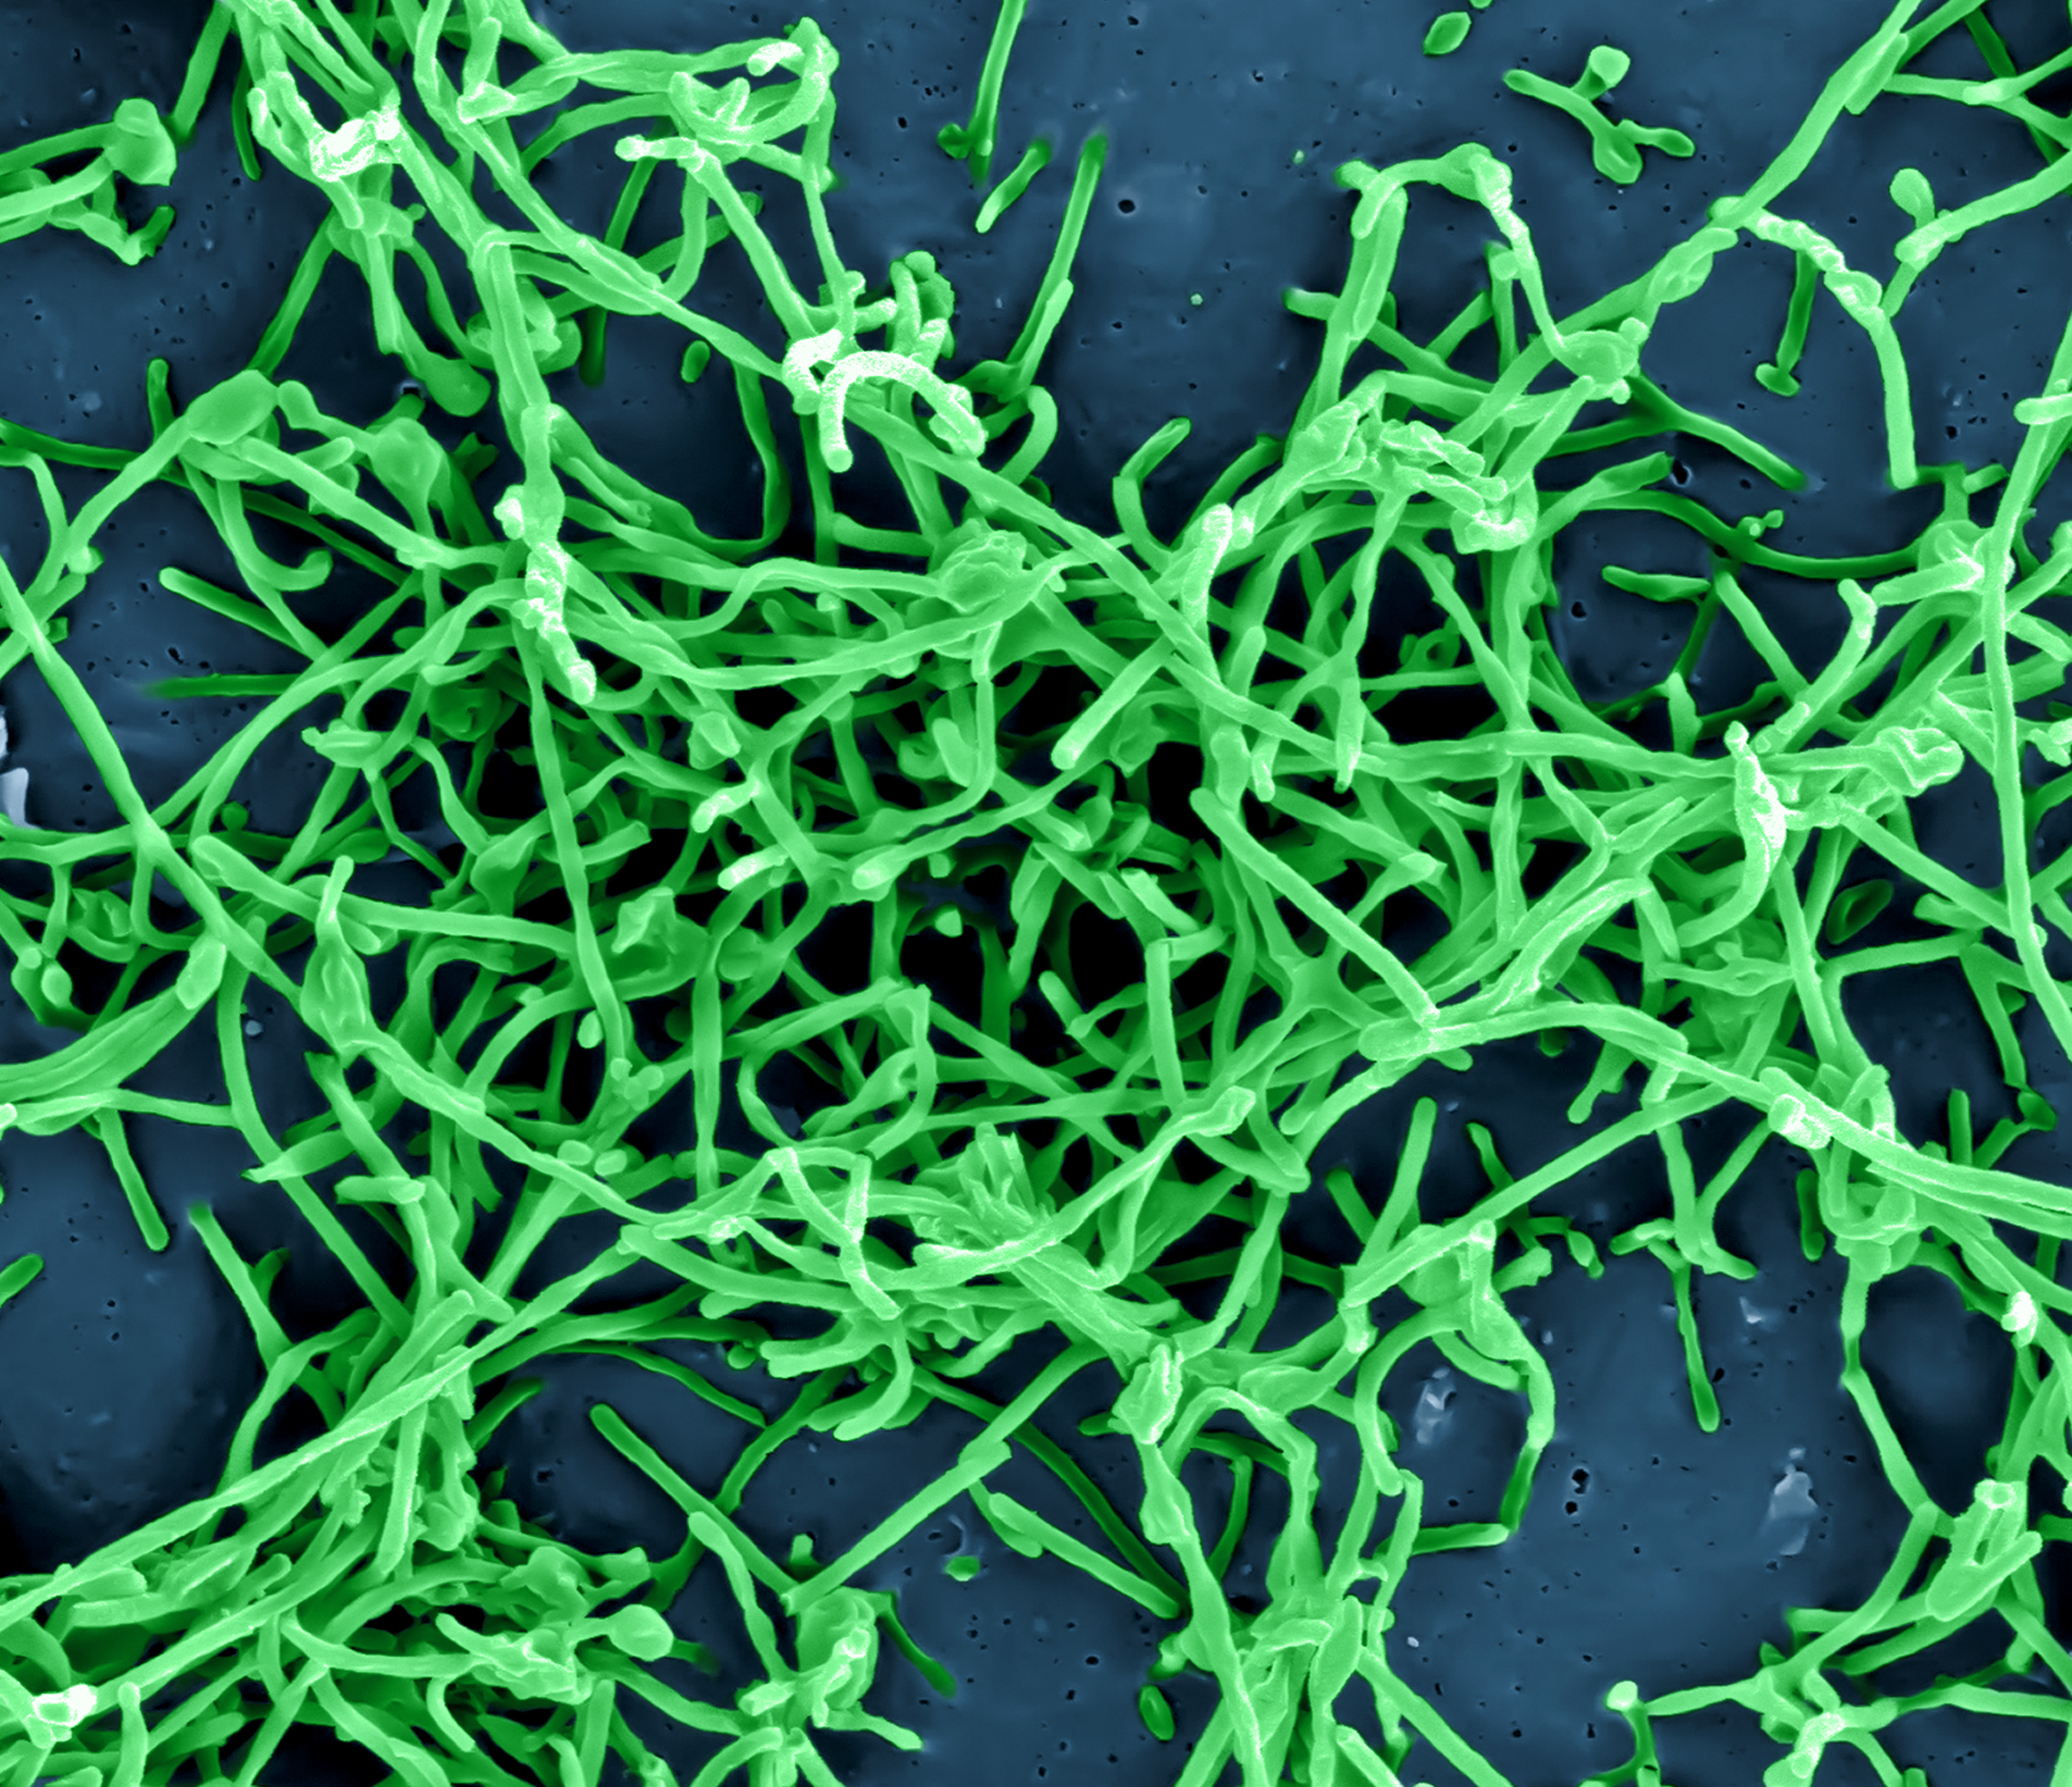EBOLA: (171, 208, 1341, 1327)
